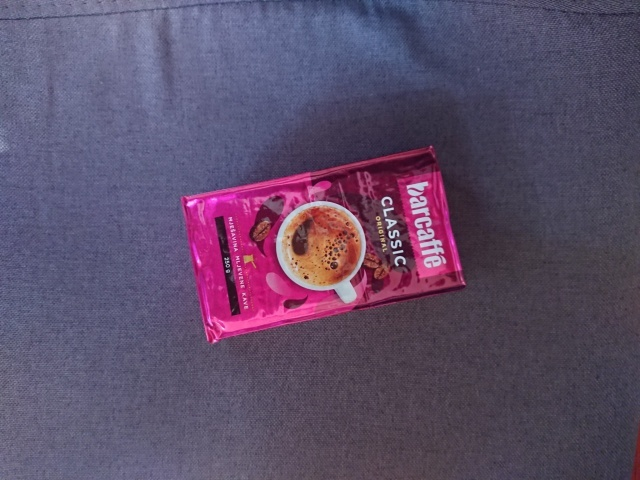Barcaffe Classic Original 225g: (177, 143, 470, 348)
